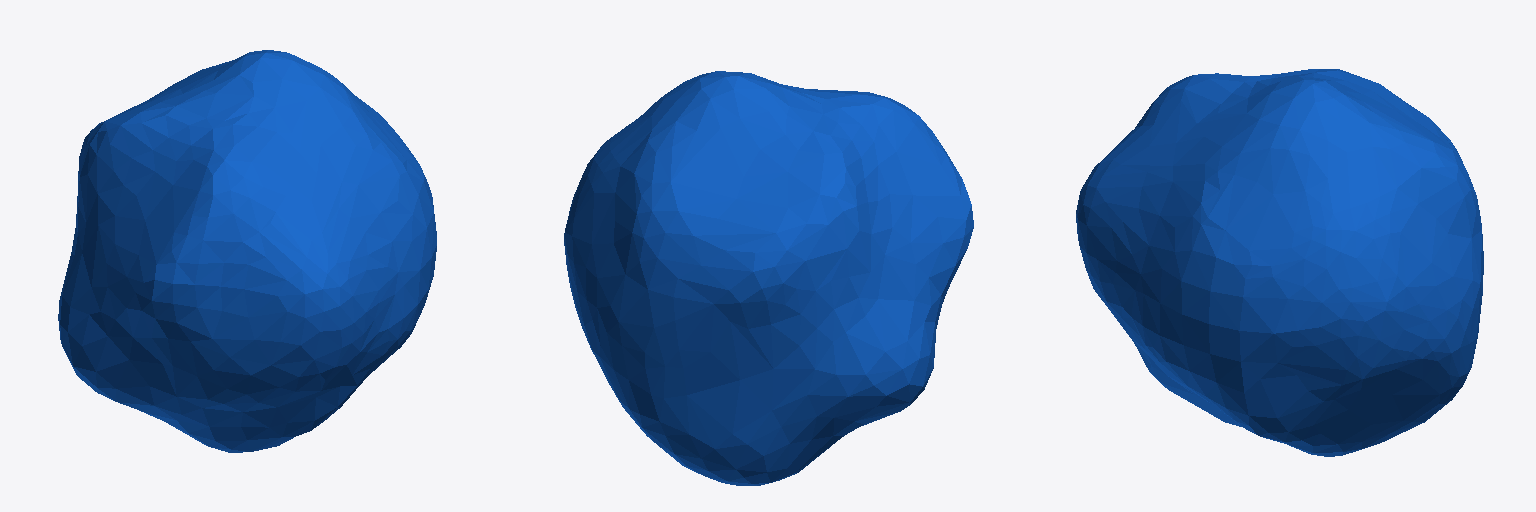
File: Vacuole.obj
3 views of the same model, side by side, from view 1: azimuth 30°, elevation 25°; view 2: azimuth 150°, elevation 25°; view 3: azimuth 270°, elevation 25° (orthographic).
Visible parts, largest first — view 1: Vacuole; view 2: Vacuole; view 3: Vacuole.
Boxes of the visible parts, x1=… form: Vacuole: x1=58, y1=50, x2=436, y2=452; Vacuole: x1=564, y1=71, x2=973, y2=485; Vacuole: x1=1076, y1=69, x2=1483, y2=456.
Size of the model in its own units: 0.7524 by 0.7829 by 0.7832.